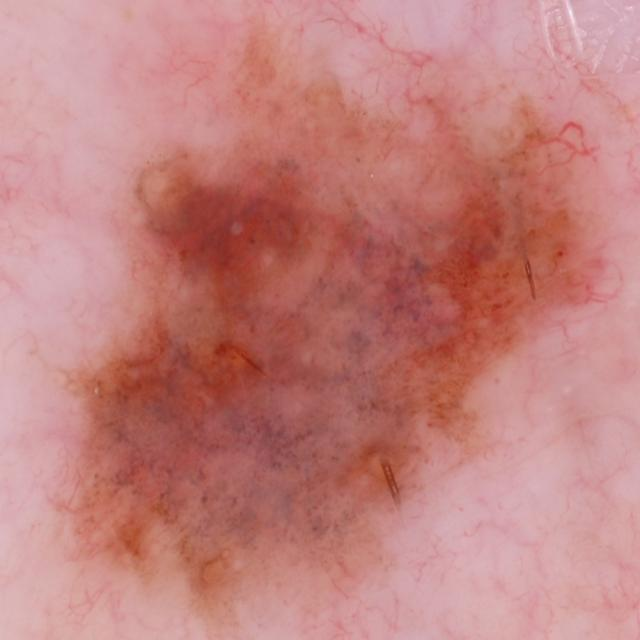Melanoma: (65, 33, 606, 629)
